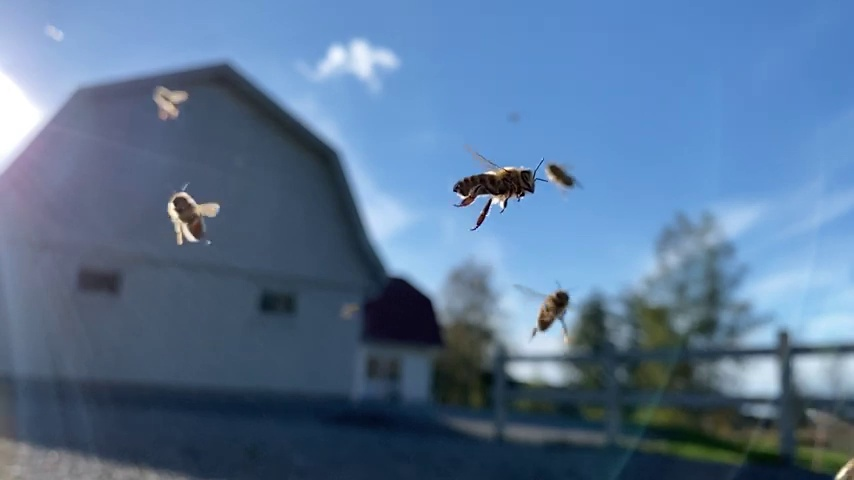insect: (448, 149, 548, 229), (514, 276, 583, 339), (166, 183, 221, 253), (148, 82, 188, 122), (547, 159, 583, 189)
